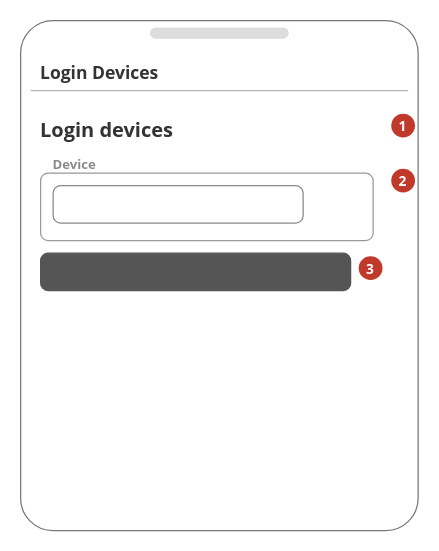
The diagram is 439 pixels wide and 551 high, and some of its shapes have lost their labels. The shapes that lost their labels are listed below. From the top down, each one's centre as x and y in pixels, then its label:
At (177,203): "Sign out this device".
At (195,271): "Sign out all other devices".
